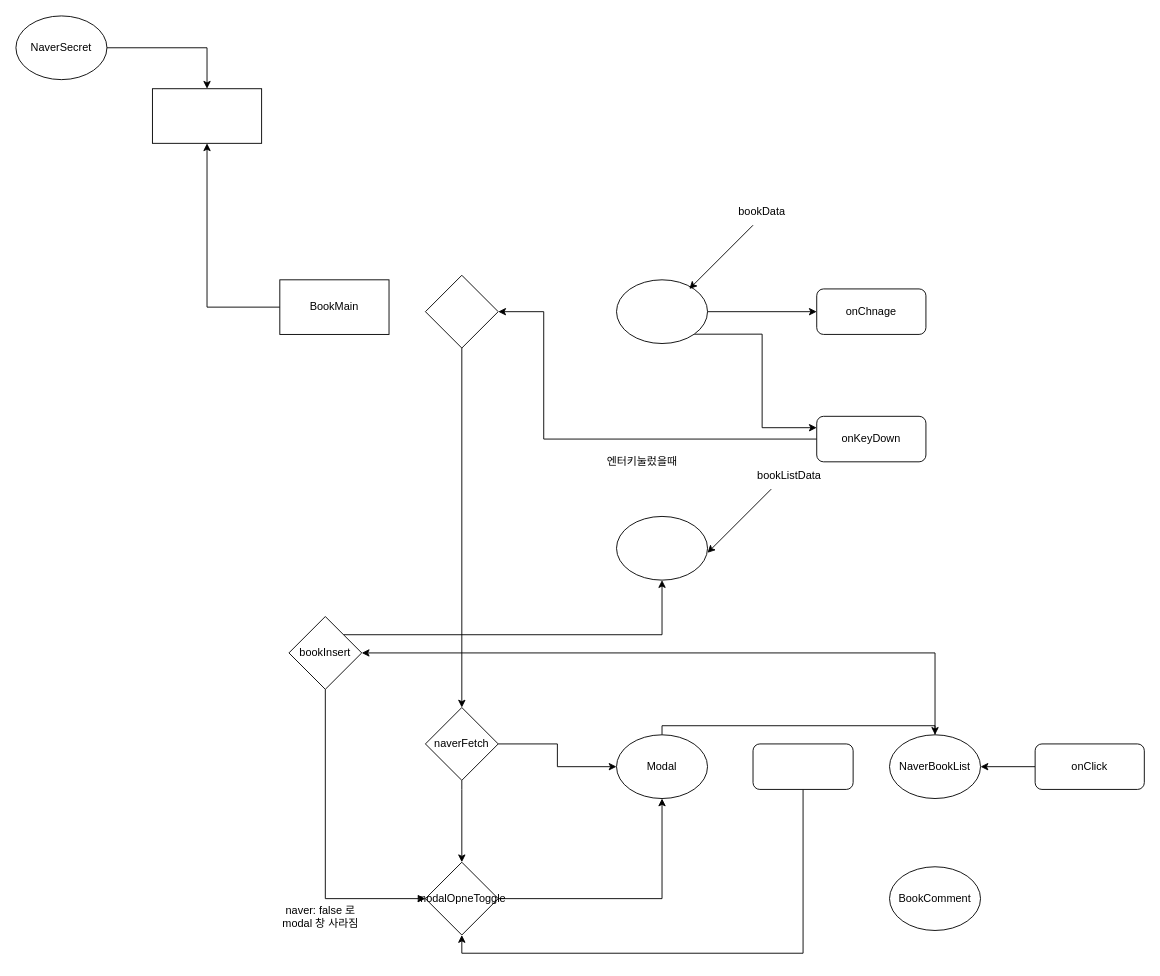
Image size: 1160x976. Some labels were removed from this diagram. Each missing label, with the centre of its shape:
"bookInput" goes at pixel 662 311.
"bookList" goes at pixel 662 548.
"bookSearch" goes at pixel 461 311.
"button onClink" goes at pixel 802 766.
"NaverBookFetch" goes at pixel 207 115.
